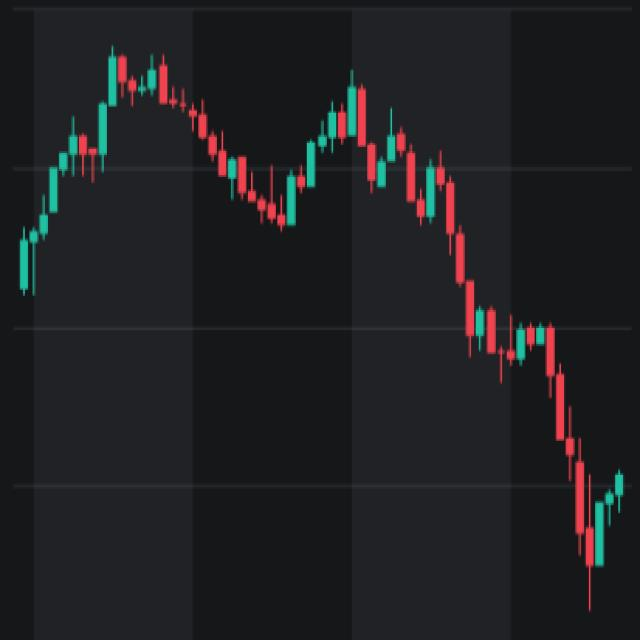Descending-Triangle: (31, 0, 485, 251)
Support-breakout: (276, 58, 600, 574)
